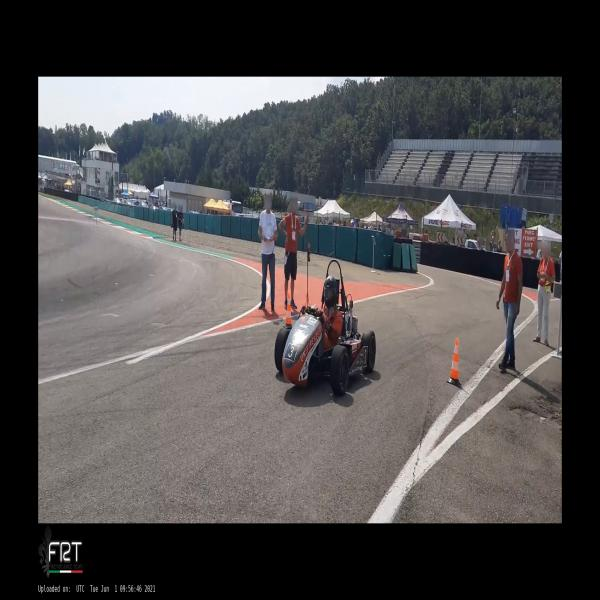large_orange_cone: (447, 338, 462, 387), (283, 293, 292, 329)
